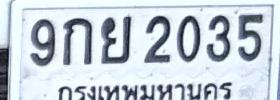0: (177, 14, 200, 62)
2: (144, 15, 171, 62)
3: (206, 14, 231, 62)
5: (238, 12, 264, 60)
9: (30, 18, 55, 66)
A01: (62, 16, 93, 66)
A34: (100, 15, 132, 64)
BKK: (56, 79, 237, 100)
